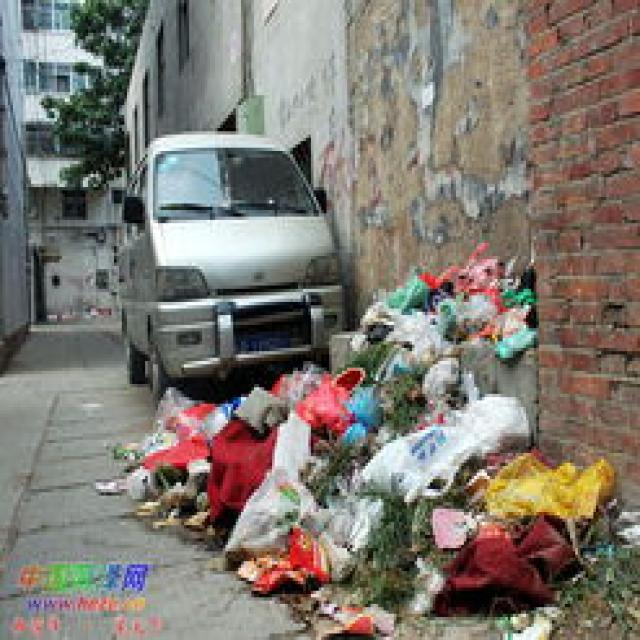garbage: (90, 236, 612, 637)
